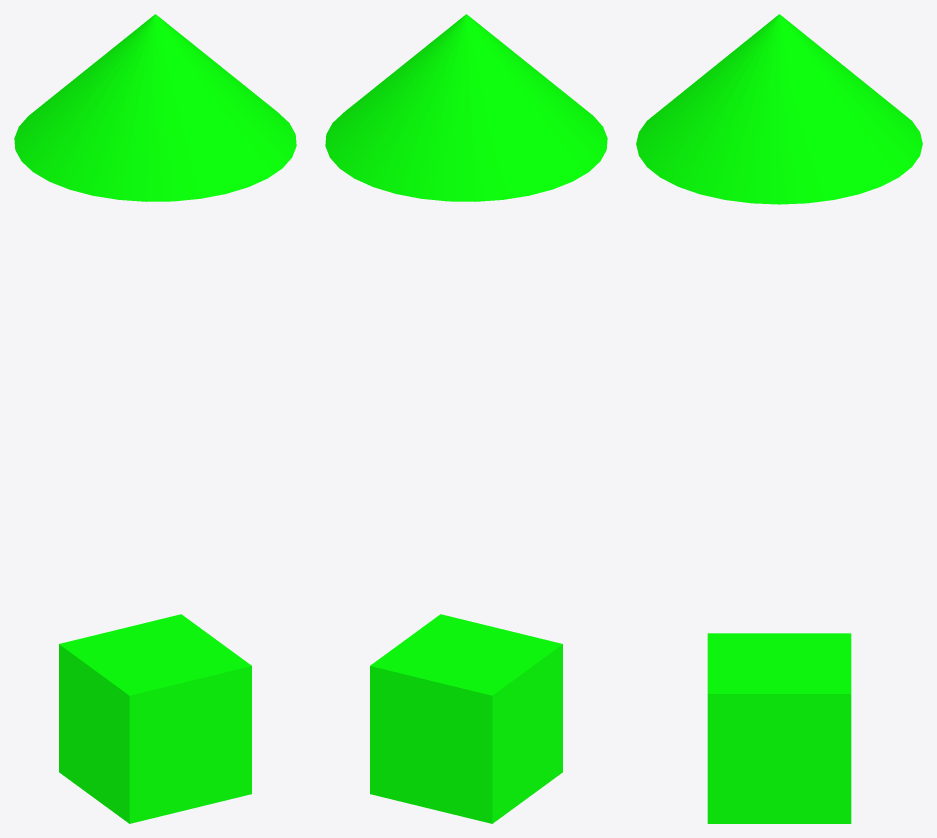
The picture shows the model from 3 angles, left to right: view 1: azimuth 30°, elevation 25°; view 2: azimuth 150°, elevation 25°; view 3: azimuth 270°, elevation 25°; orthographic projection.
Bounding box in the file's own units: 2 × 6 × 2.
